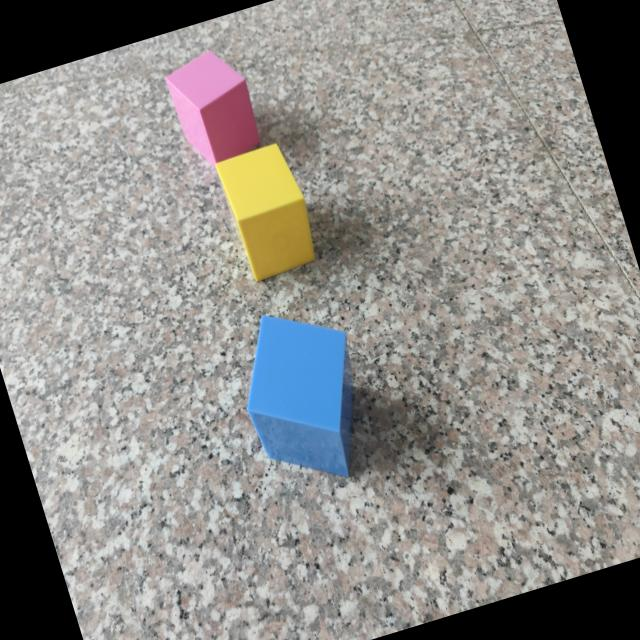blue: (247, 316, 355, 478)
pink: (161, 46, 263, 164)
yellow: (216, 141, 317, 281)
